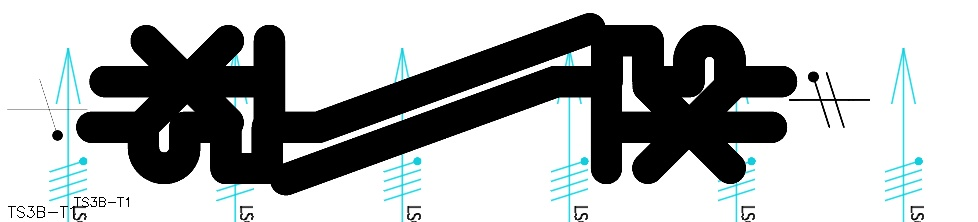interruptor_termomagnetico: (74, 11, 789, 186), (87, 23, 799, 197)
